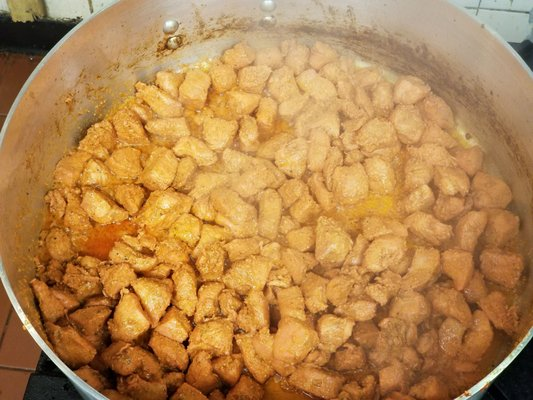sushi: (1, 1, 531, 399)
